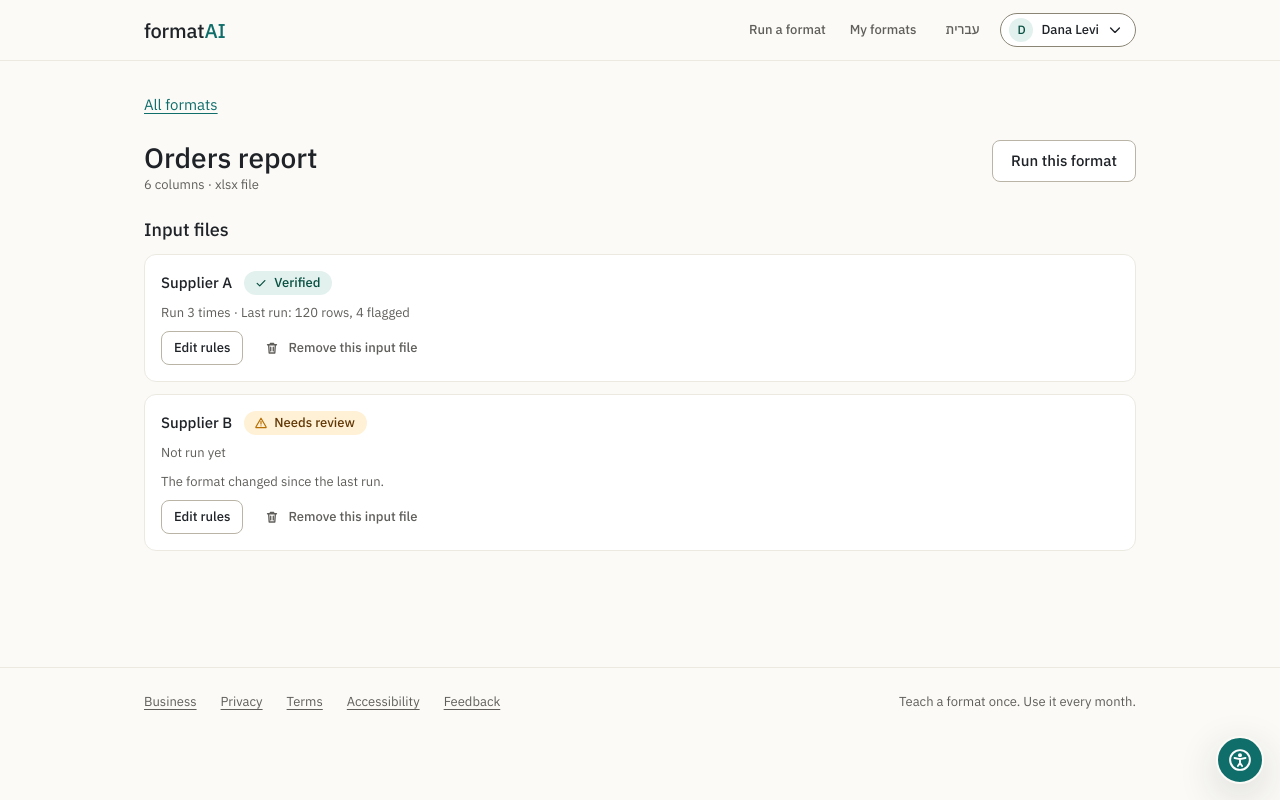
Test: the format page › switched off: "Input files" by their saved names, no rename, "Remove this input file" with a confirm - and no "source" anywhere
The image size is (1280, 800).
Expected: the heading "Orders report" is shown, [144, 140, 317, 175]
Expected: the heading "Input files" is shown, [144, 218, 229, 241]
Click the button "Remove this input file" below "Supplier B".
click(341, 517)  # box [251, 500, 430, 534]
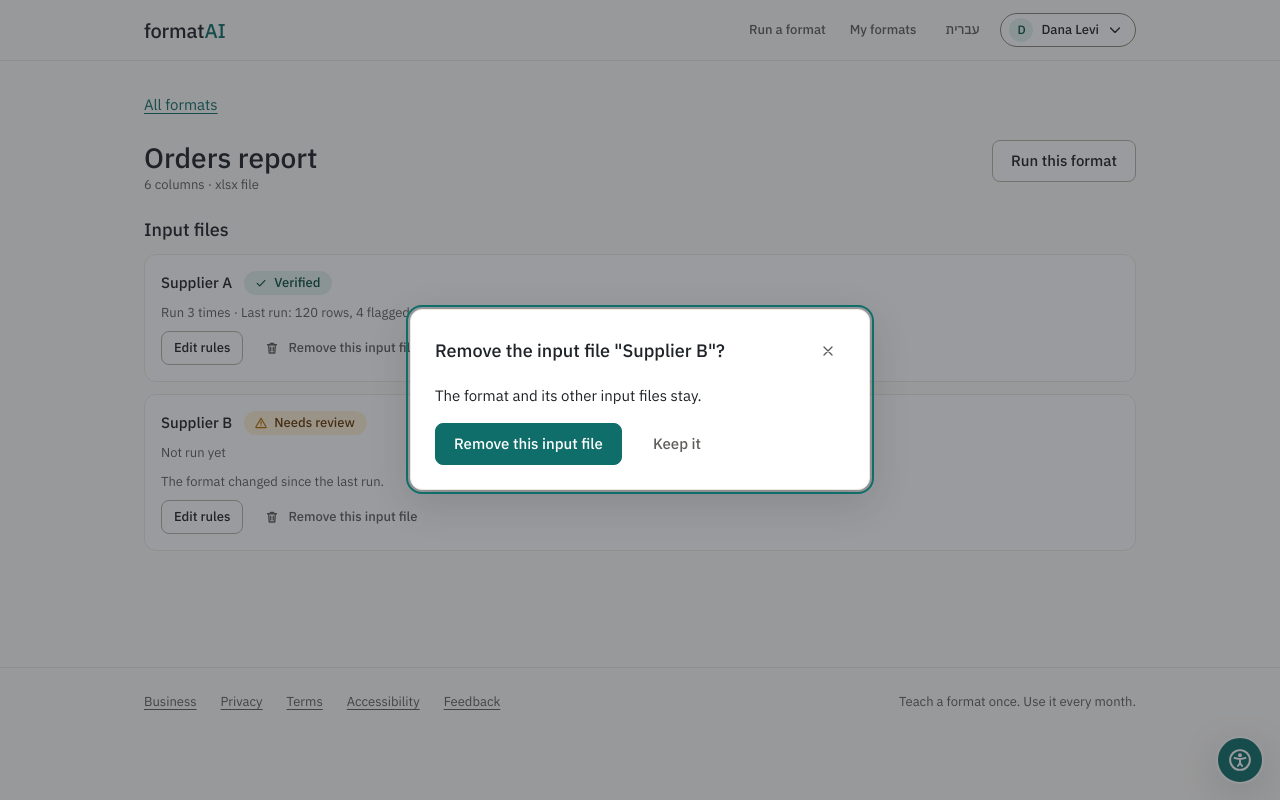
Now the dialog "Remove the input file \"Supplier B\"?" shows "The format and its other input files stay.", box [435, 386, 702, 405]
Click the button "Remove this input file".
click(528, 445)  # box [435, 424, 622, 466]
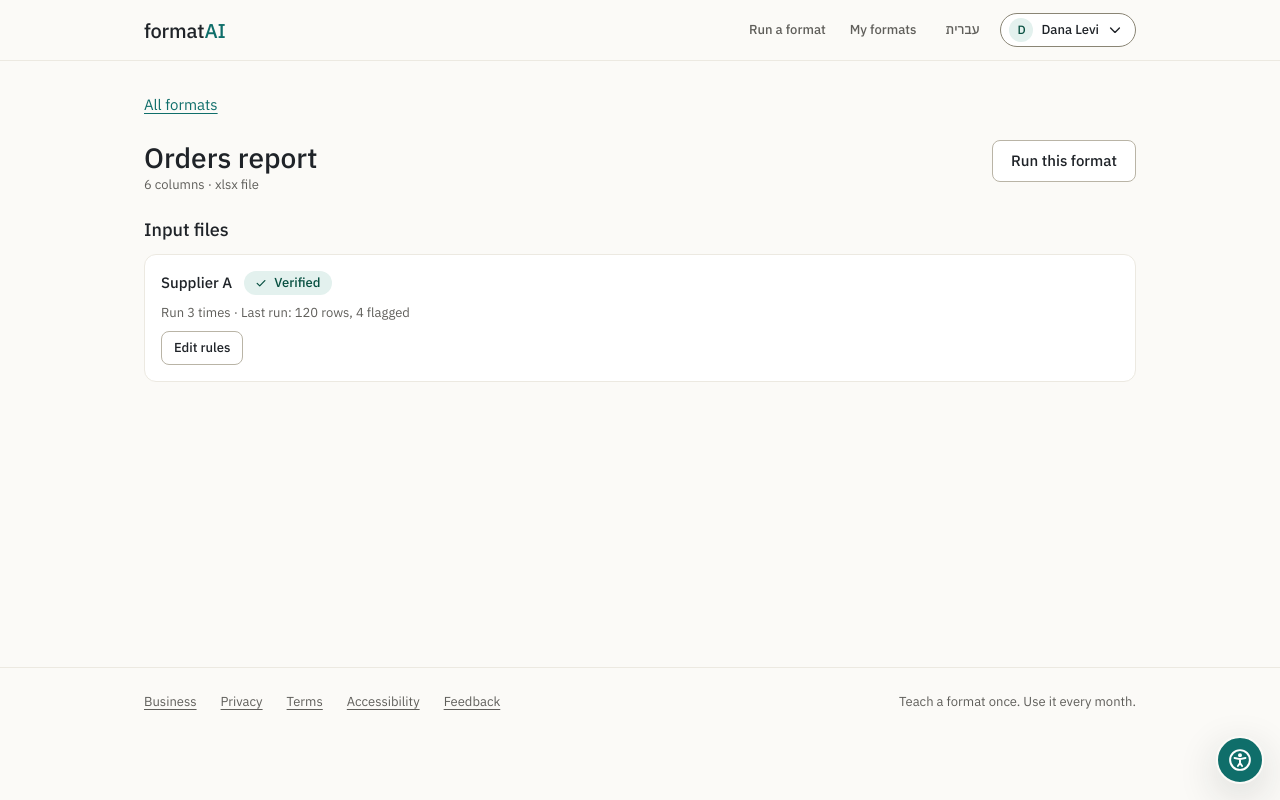
Now the button "Remove this input file" is gone
